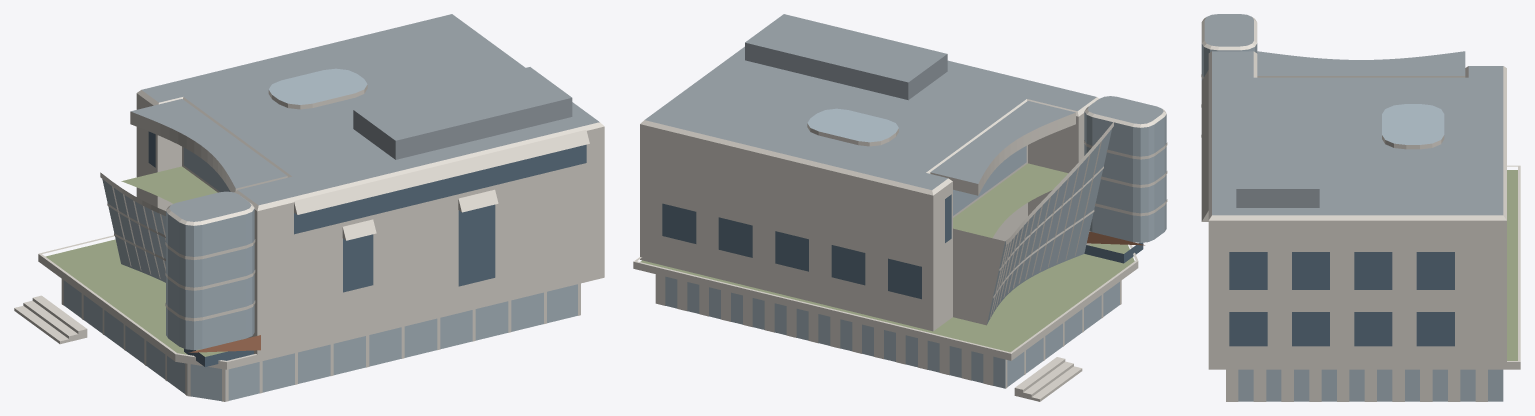
File: clt-main-library.glb
3 views of the same model, side by side, from view 1: azimuth 30°, elevation 25°; view 2: azimuth 150°, elevation 25°; view 3: azimuth 270°, elevation 25° (orthographic). The views are drawn at different scales.
Parts seen in each view (by area): view 1: Charlotte Mecklenburg Library Main Library; view 2: Charlotte Mecklenburg Library Main Library; view 3: Charlotte Mecklenburg Library Main Library.
Boxes of the visible parts, x1=… form: Charlotte Mecklenburg Library Main Library: x1=14, y1=14, x2=604, y2=401; Charlotte Mecklenburg Library Main Library: x1=633, y1=14, x2=1167, y2=401; Charlotte Mecklenburg Library Main Library: x1=1201, y1=14, x2=1520, y2=401.
Size of the model in its own units: 71.55 by 33.6 by 46.06.
